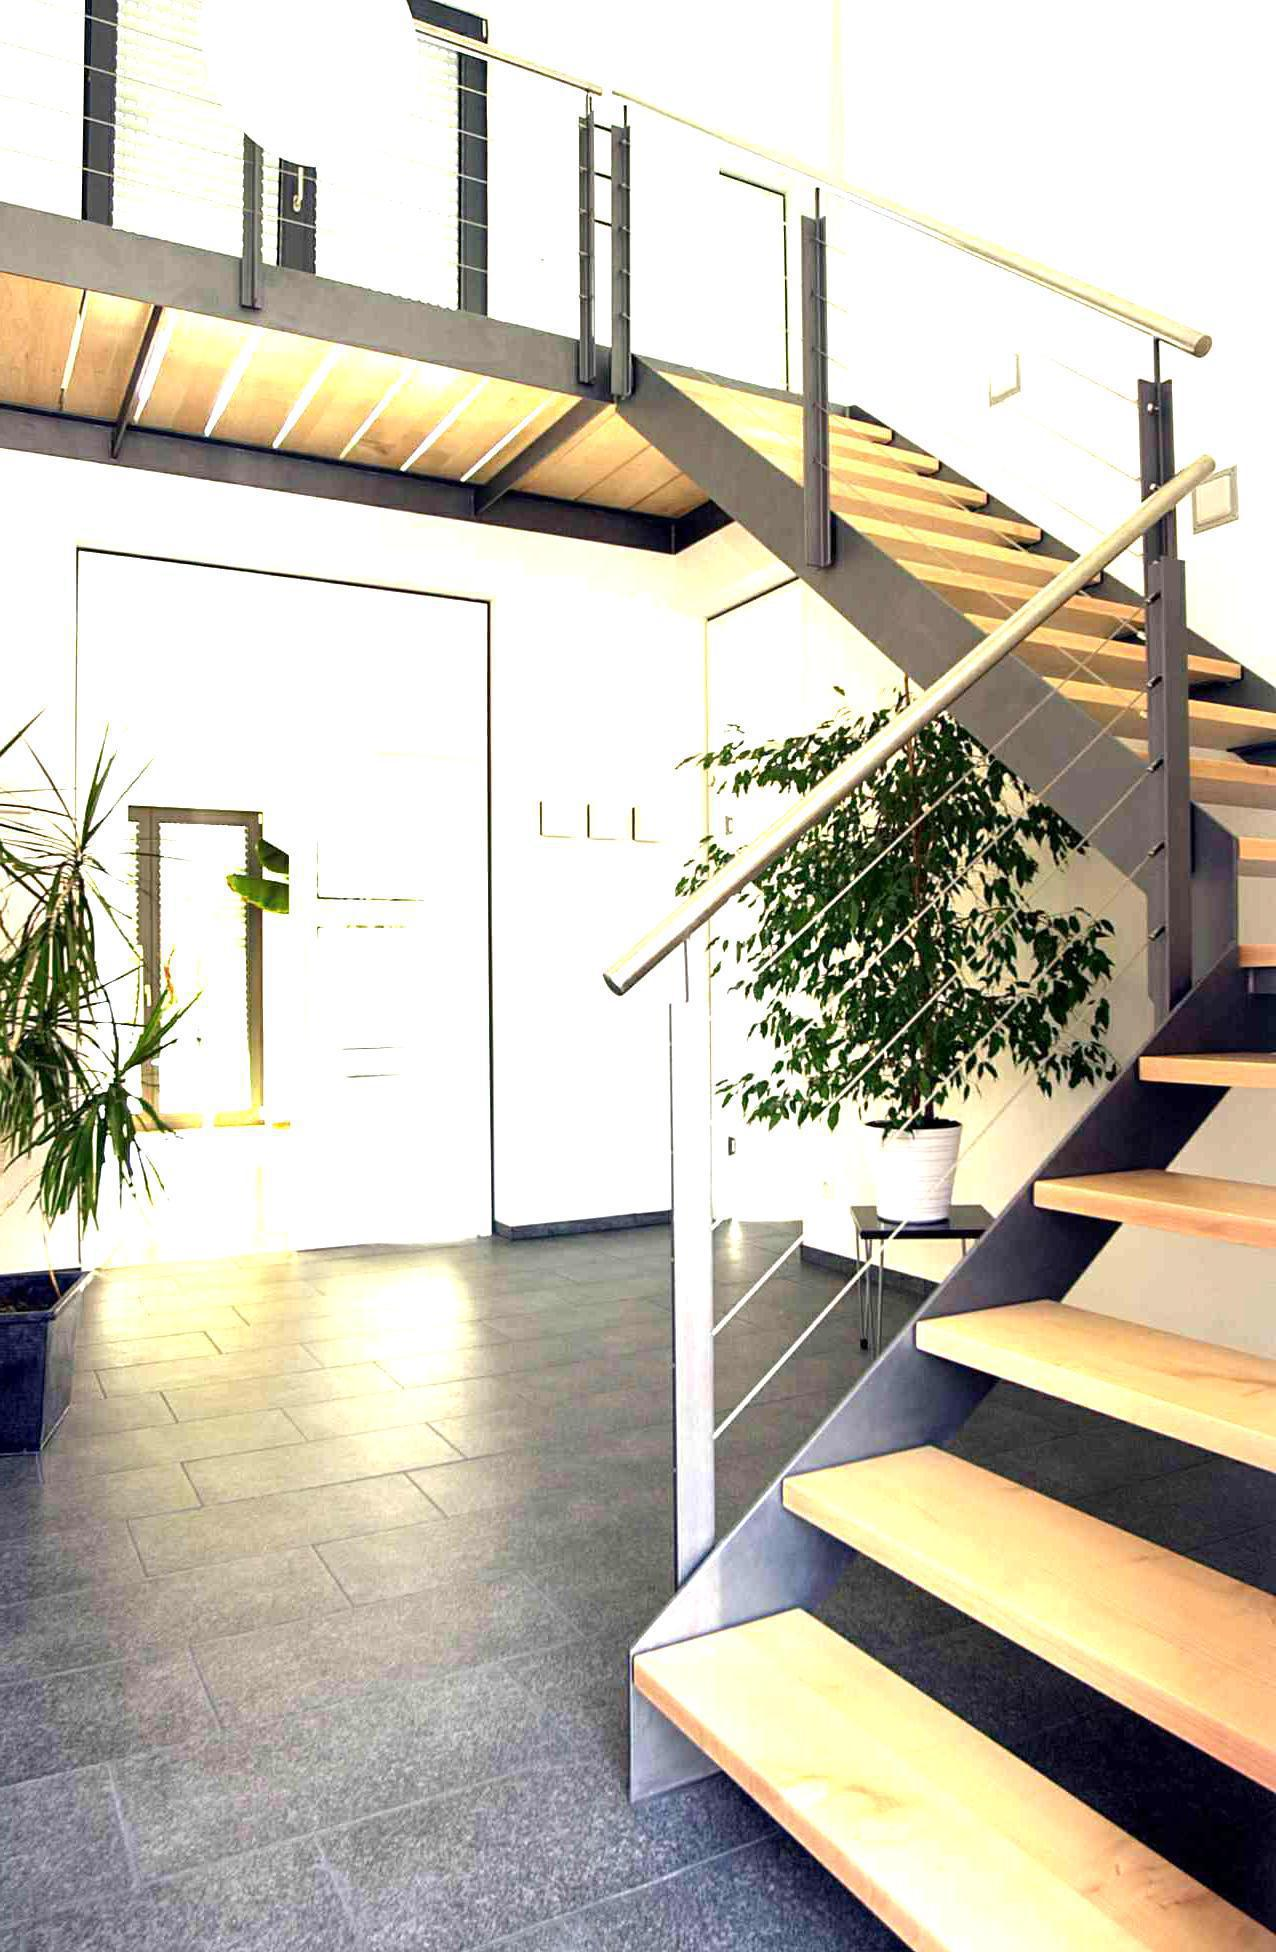Escaleras: (639, 943, 1257, 1922), (622, 83, 1257, 923)
Matera: (722, 700, 1058, 1227), (10, 760, 152, 1458)
